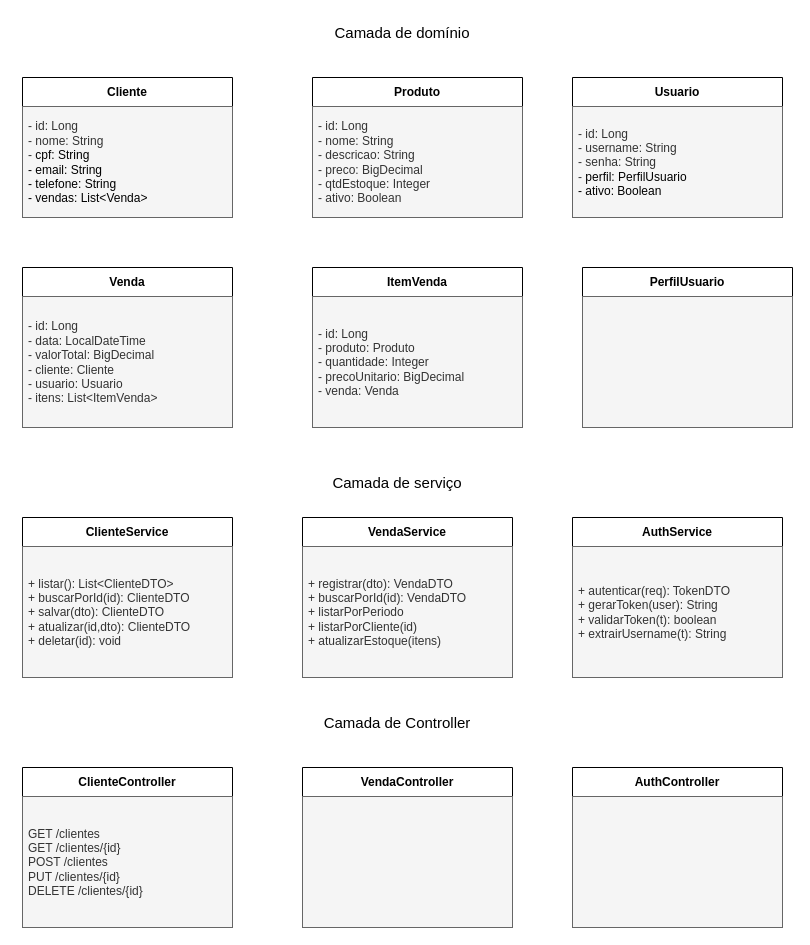
Image size: 810x945. Some labels were removed from this diagram. The shapes that lost their labels are listed below. From the top down, each one's centre as x and y in pixels, then its label:
At (x=687, y=362): "ADMIN FUNCIONARIO".
At (x=407, y=862): "GET /vendas GET /vendas/{id} POST /vendas GET /vendas/relatorio".
At (x=677, y=862): "POST /auth/login - publica (sem token) - retorna JWT".
